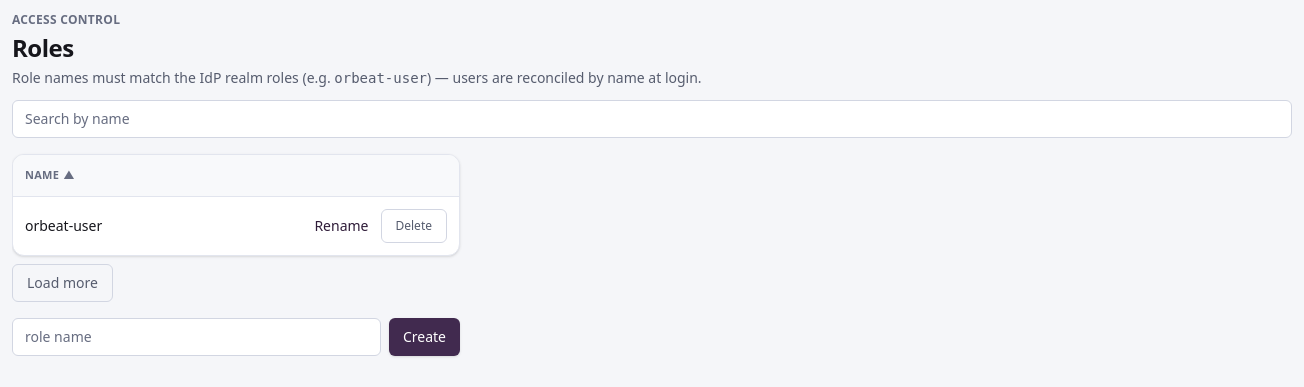
Load more appends the second page, keeps the first page on screen, and disappears once exhausted
Expected: the 2nd text "orbeat-user" is shown, [25,216,102,236]
What coordinates should you click on to do the following:
click the button "Load more"
I would click on:
 (62, 282)
Its box is [12,264,113,302].
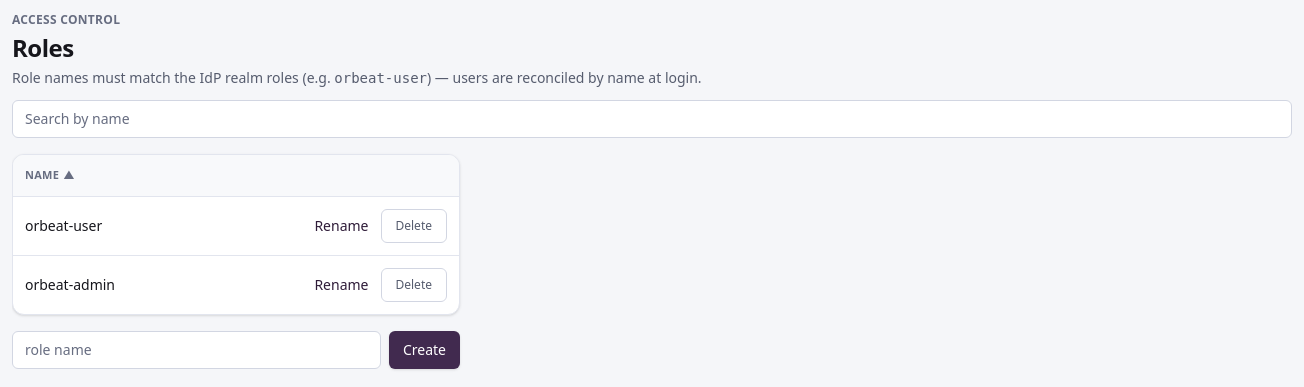
Expected: the 2nd text "orbeat-user" is shown, [25,216,102,236]
Result: the text "orbeat-admin" is shown at [25,274,115,294]
Result: the button "Load more" is gone
